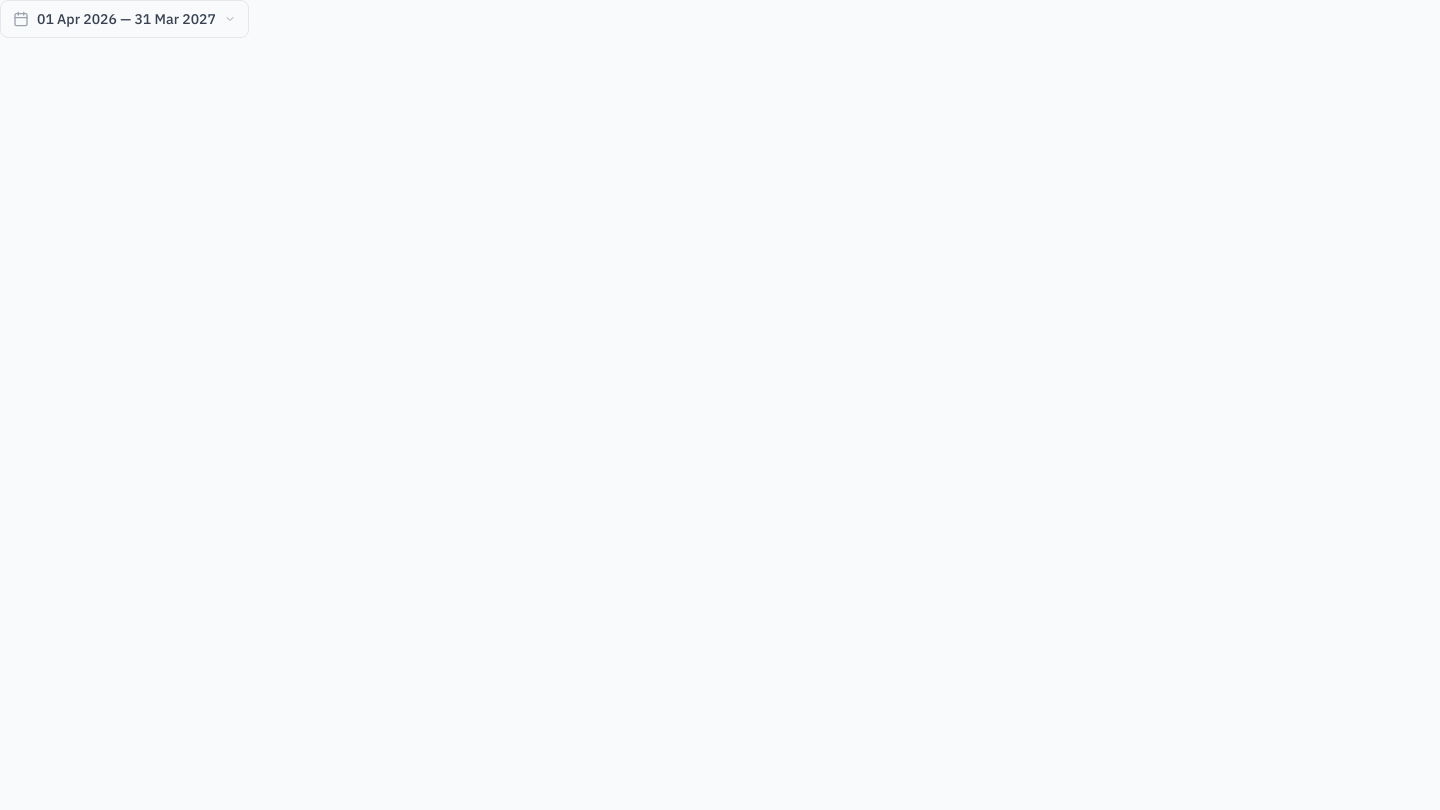
DateRangePicker › opens popover on trigger click
Click the button with test id "date-range-picker-trigger": (124, 19) 0,0 -> 249,38
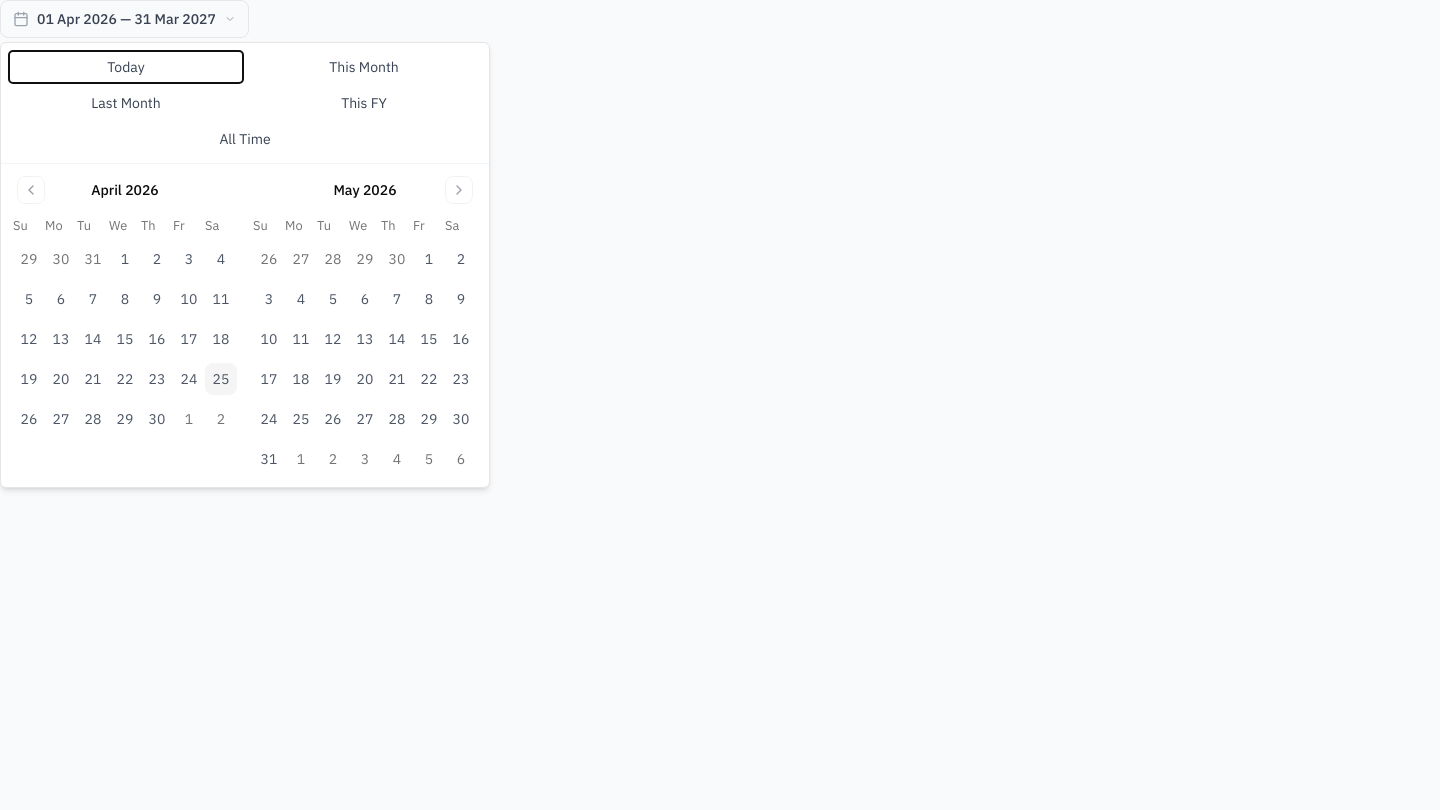
Expected: the button with test id "date-quick-today" is shown, 9,51 -> 243,83
